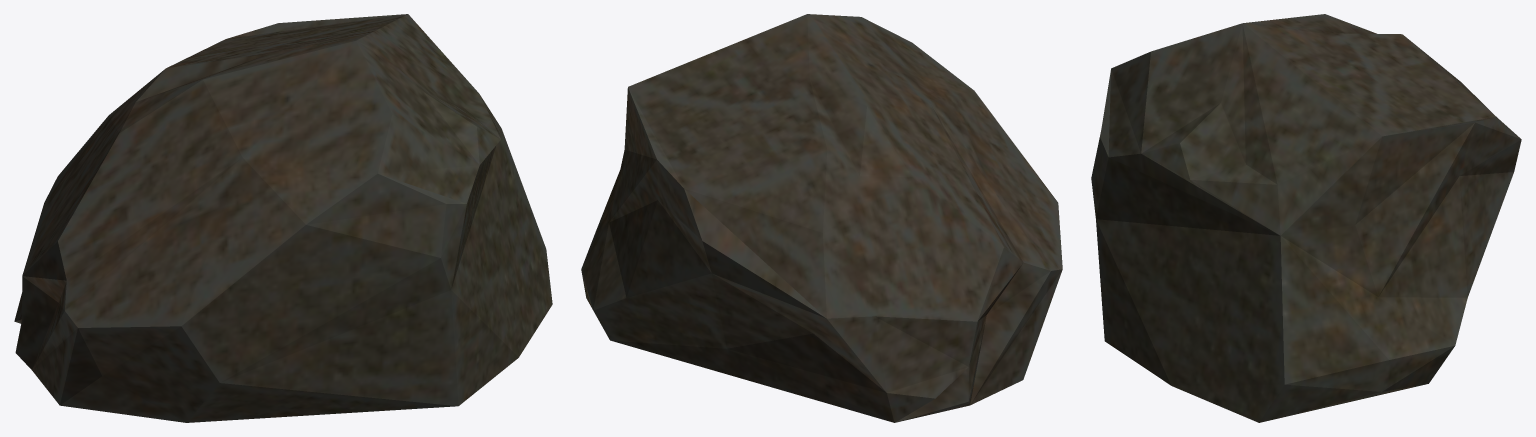
The model's file is piedra_stone_10.glb.
3 views of the same model, side by side, from view 1: azimuth 30°, elevation 25°; view 2: azimuth 150°, elevation 25°; view 3: azimuth 270°, elevation 25° (orthographic). The views are drawn at different scales.
Visible parts, largest first — view 1: Stone_10; view 2: Stone_10; view 3: Stone_10.
Part boxes in pixels (x1,y1,x2,y2): Stone_10: (14, 14, 552, 422); Stone_10: (581, 14, 1062, 422); Stone_10: (1091, 14, 1521, 422).
Size of the model in its own units: 1 by 0.6206 by 0.7946.
1 material, 1 textured.
